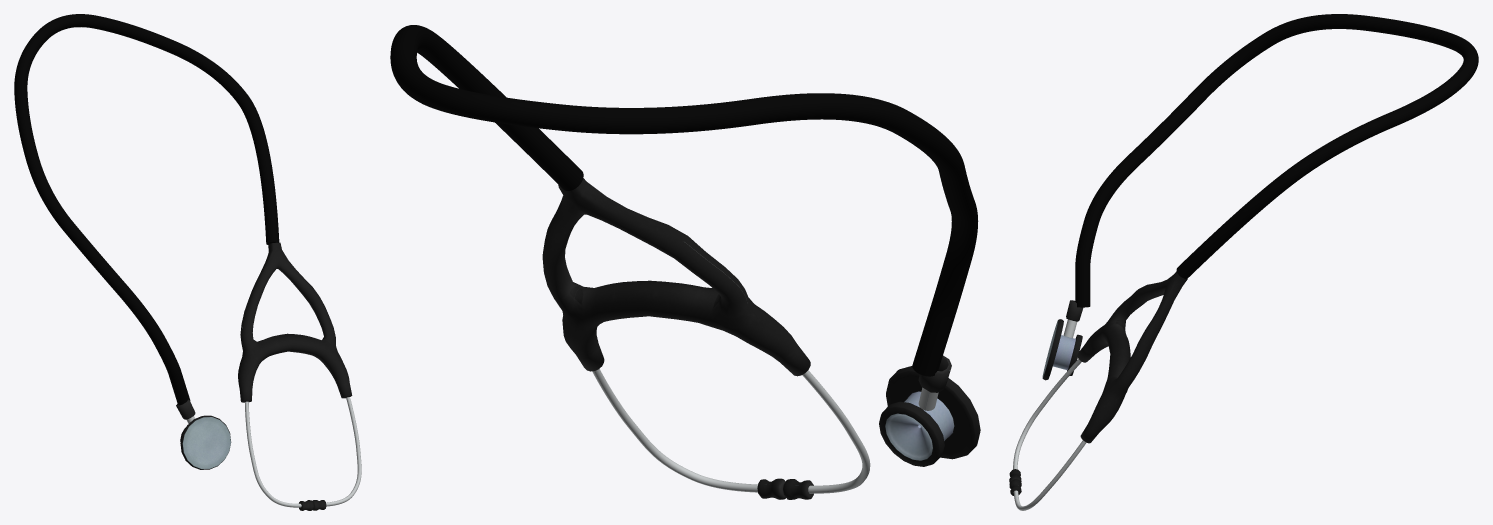
Rendered from stethoscope.fbx.
3 renders of one model, left to right at view 1: azimuth 30°, elevation 25°; view 2: azimuth 150°, elevation 25°; view 3: azimuth 270°, elevation 25°, orthographic. The views are drawn at different scales.
Parts seen in each view (by area): view 1: Sweep, Right_Side, Left_Side; view 2: Sweep, Right_Side, Left_Side; view 3: Sweep, Right_Side, Left_Side.
Boxes of the visible parts, x1,y1,x2,y2 form: Sweep: (14, 14, 279, 405); Right_Side: (238, 242, 361, 510); Left_Side: (176, 399, 231, 469); Sweep: (390, 25, 978, 376); Right_Side: (542, 178, 870, 499); Left_Side: (879, 355, 980, 466); Sweep: (1075, 14, 1478, 307); Right_Side: (1009, 271, 1187, 510); Left_Side: (1042, 300, 1083, 380).
Bounding box in the file's own units: 20.22 × 28.14 × 28.98.
Materials: 2 (1 with a texture image).
